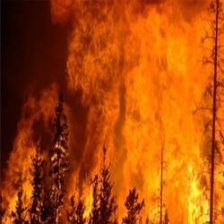fire: (92, 6, 221, 224)
